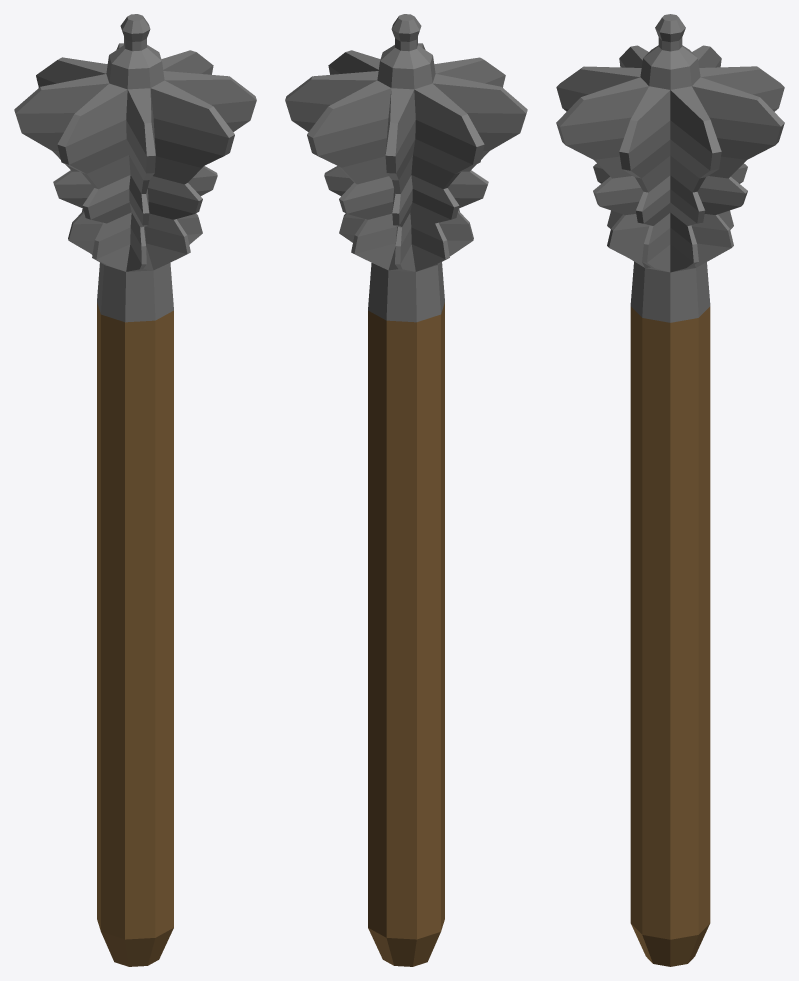
File: Mace 1.fbx
The picture shows the model from 3 angles, left to right: view 1: azimuth 30°, elevation 25°; view 2: azimuth 150°, elevation 25°; view 3: azimuth 270°, elevation 25°; orthographic projection.
Visible parts, largest first — view 1: Mace; view 2: Mace; view 3: Mace.
Part boxes in pixels (<box>): Mace: <box>14,14,256,966</box>; Mace: <box>285,14,527,966</box>; Mace: <box>556,14,784,966</box>.
Bounding box in the file's own units: 15.6 × 70.65 × 15.6.
